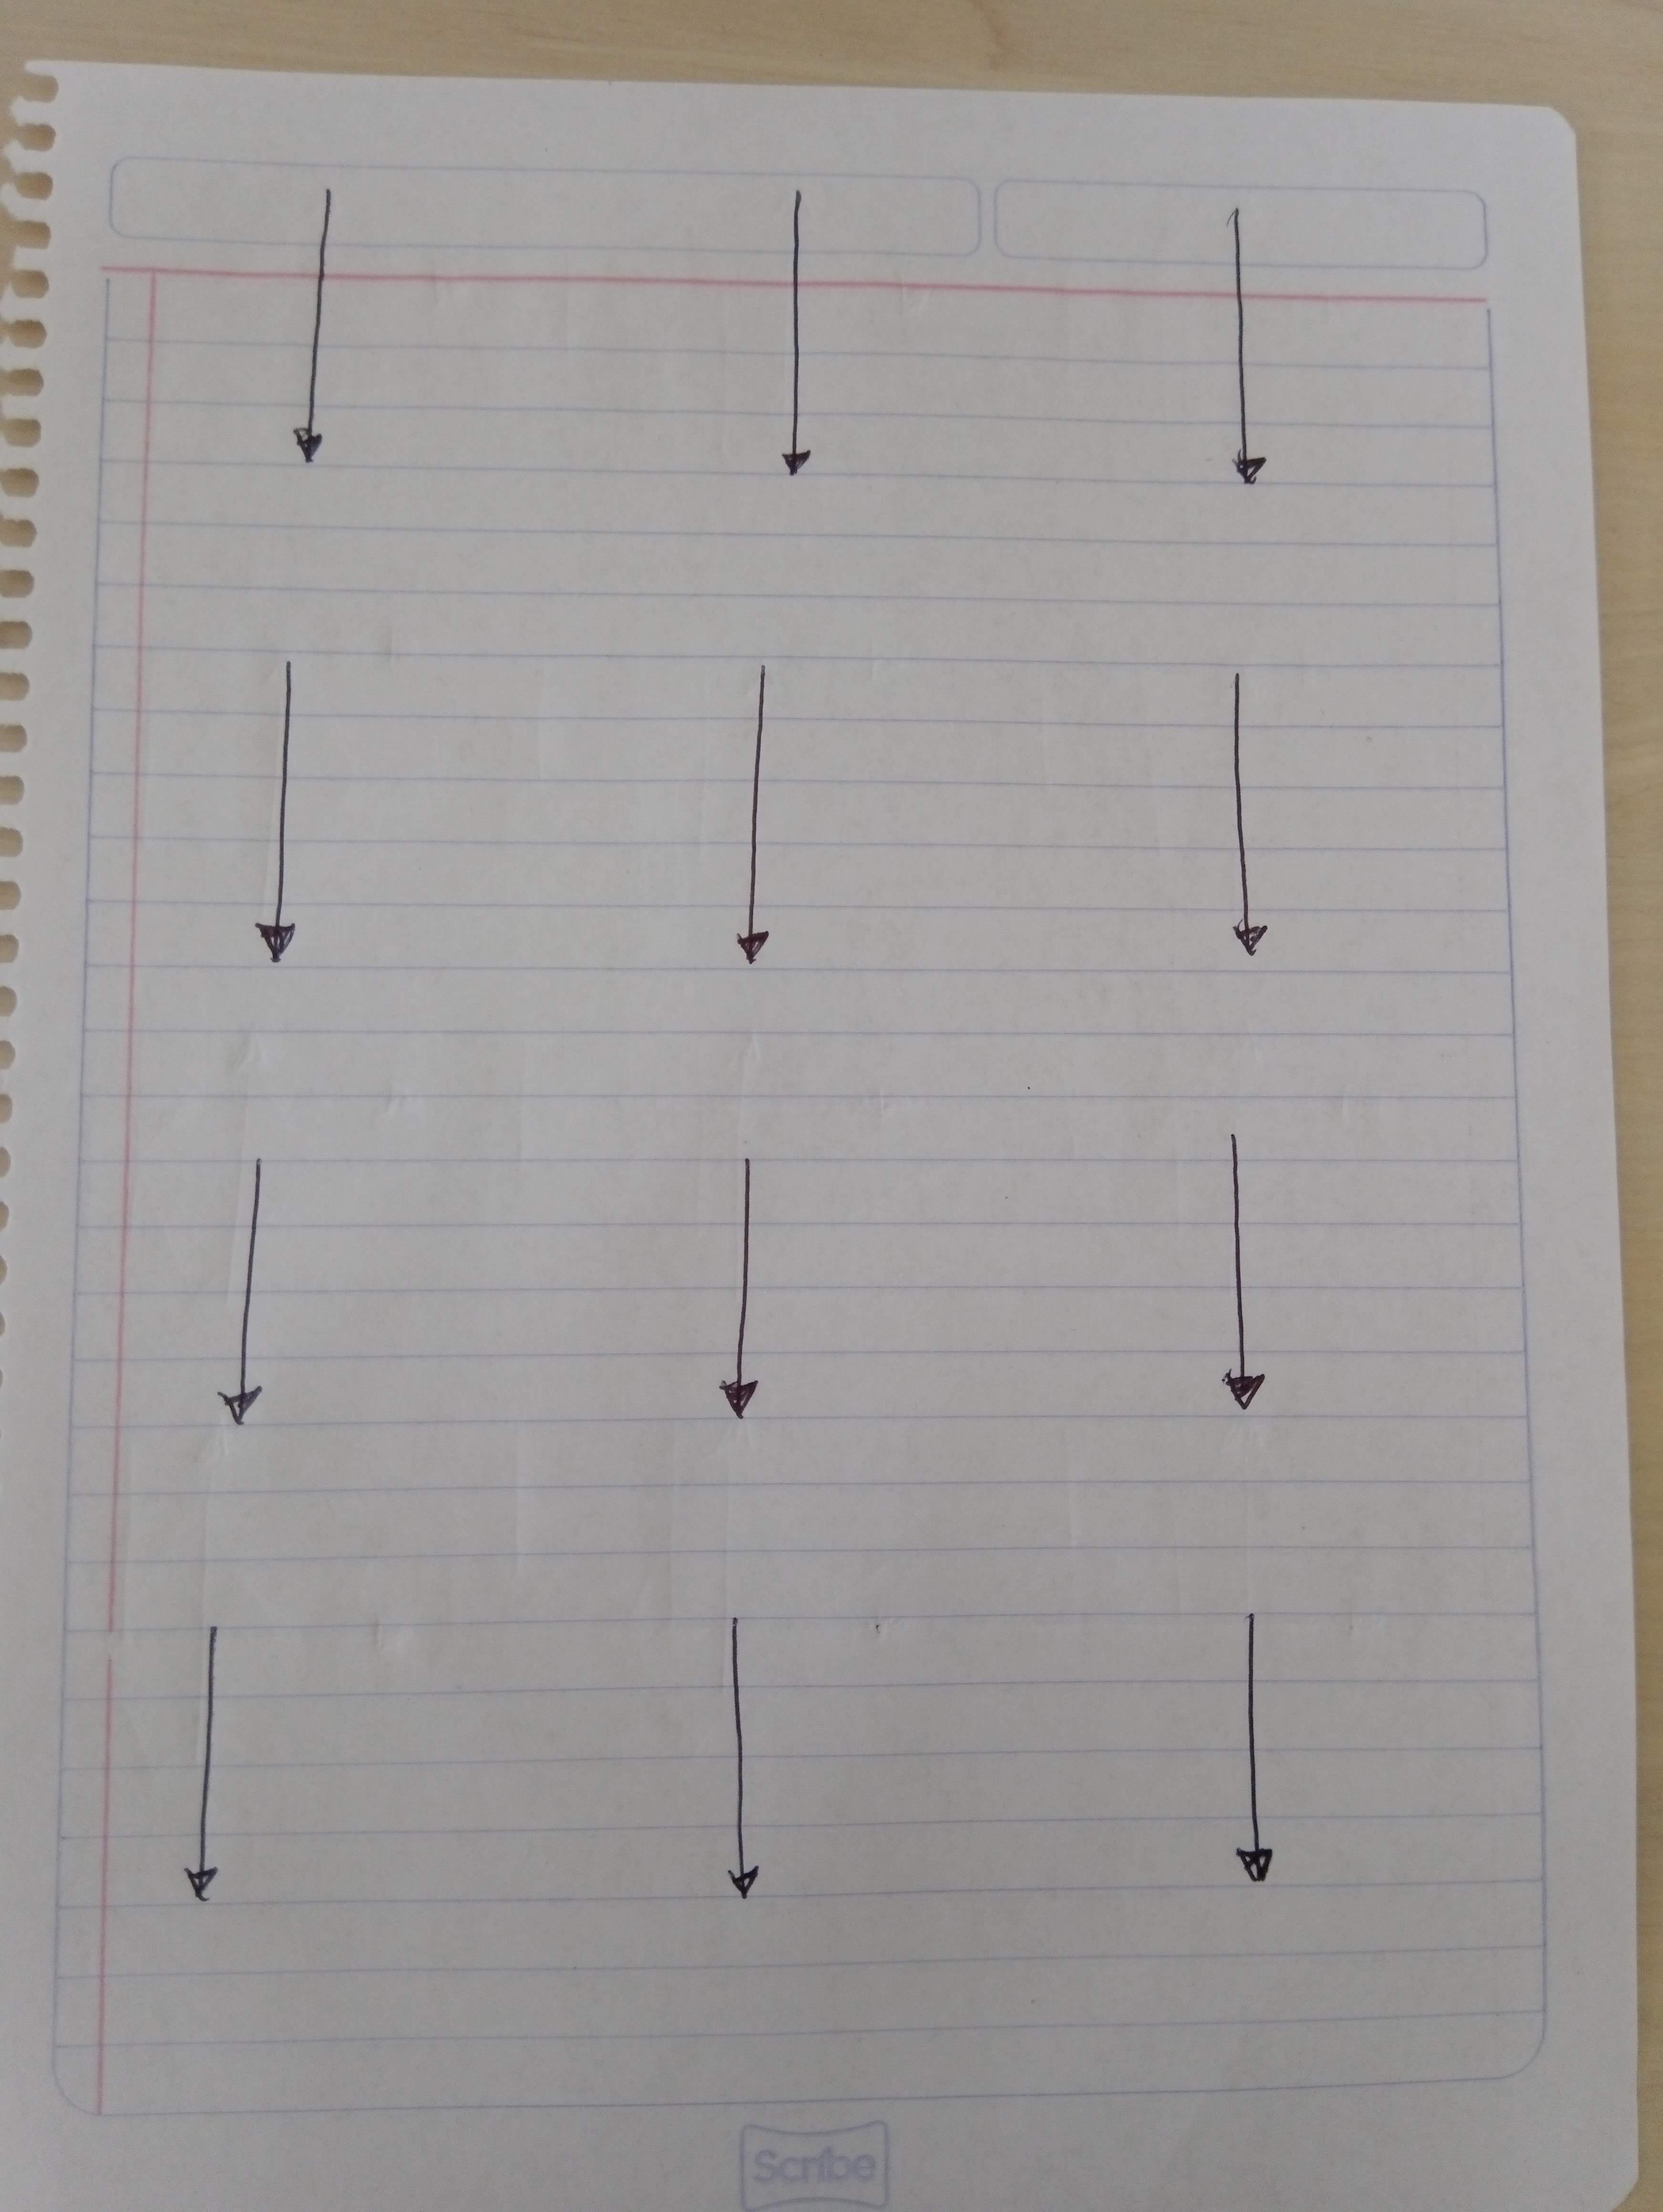arrow_line_down: (1204, 1124, 1303, 1421), (267, 175, 360, 477), (721, 658, 807, 983), (1207, 663, 1293, 969), (252, 635, 327, 972), (1211, 1592, 1296, 1887), (1207, 197, 1287, 508), (171, 1604, 248, 1919), (206, 1140, 283, 1446), (760, 190, 833, 496), (706, 1151, 784, 1421), (702, 1615, 772, 1917)
